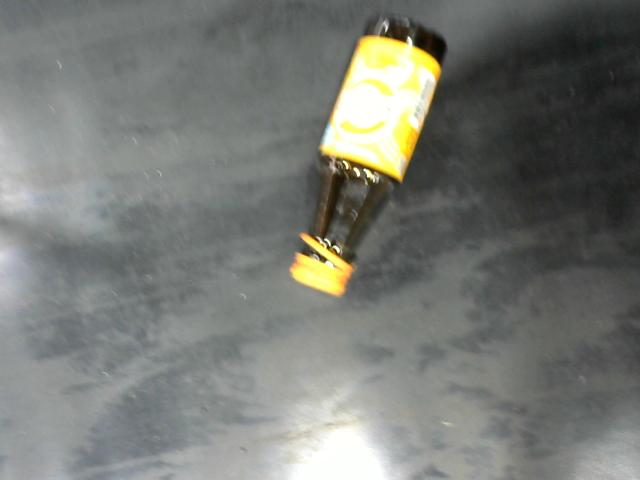glass: (287, 9, 450, 301)
